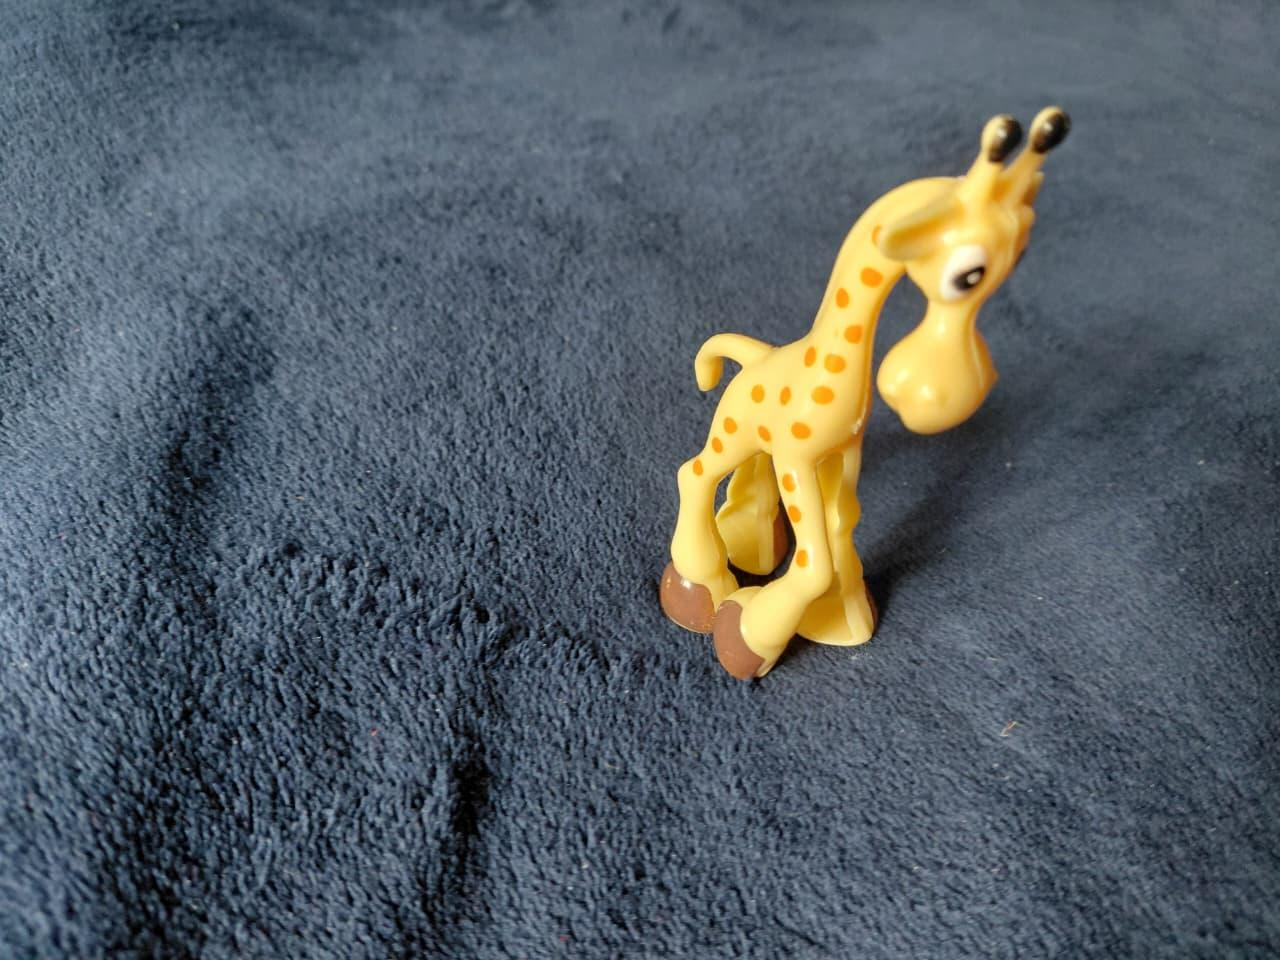giraffe: (652, 97, 1068, 687)
